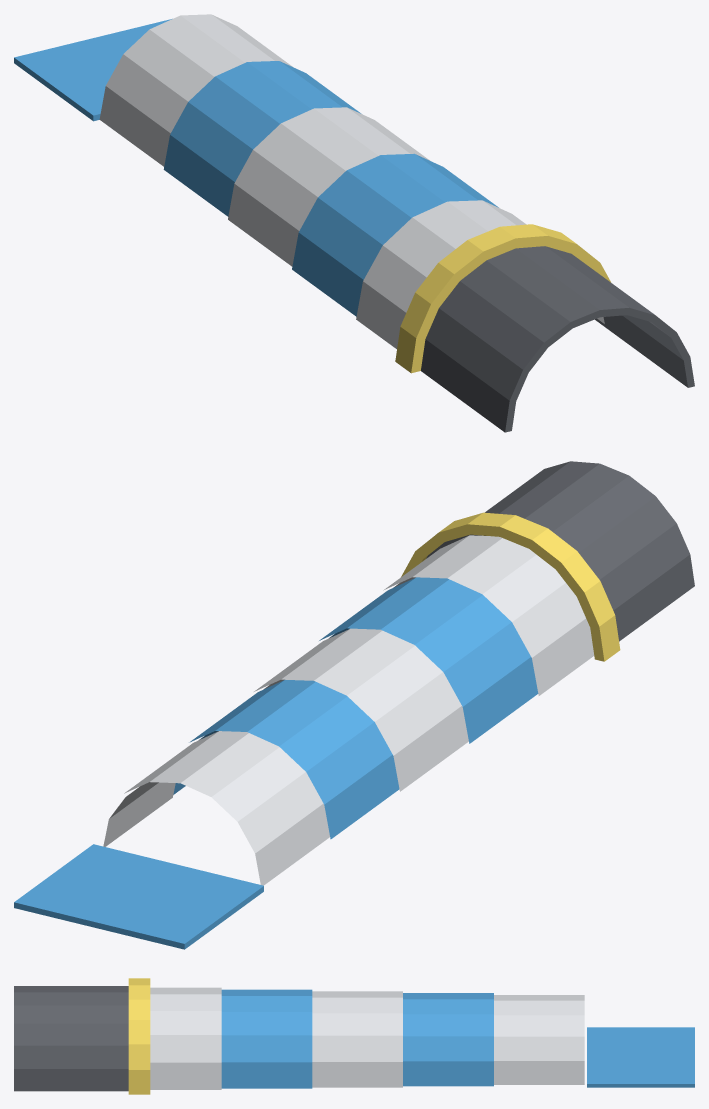
Rendered from dog-agility-and-training-field-collapsed-tunnel-entry-ee5e179a__35587.glb.
3 views of the same model, one above another, from view 1: azimuth 30°, elevation 25°; view 2: azimuth 150°, elevation 25°; view 3: azimuth 270°, elevation 25° (orthographic). The views are drawn at different scales.
Parts seen in each view (by area): view 1: collapsed-tunnel-entry-steel, collapsed-tunnel-entry-azure, collapsed-tunnel-entry-charcoal, collapsed-tunnel-entry-sunflower; view 2: collapsed-tunnel-entry-azure, collapsed-tunnel-entry-steel, collapsed-tunnel-entry-charcoal, collapsed-tunnel-entry-sunflower; view 3: collapsed-tunnel-entry-steel, collapsed-tunnel-entry-azure, collapsed-tunnel-entry-charcoal, collapsed-tunnel-entry-sunflower.
Boxes of the visible parts, box(x1,y1,x2,y2) form: collapsed-tunnel-entry-steel: box(99, 14, 604, 348); collapsed-tunnel-entry-azure: box(14, 18, 498, 316); collapsed-tunnel-entry-charcoal: box(421, 246, 694, 432); collapsed-tunnel-entry-sunflower: box(395, 224, 610, 373); collapsed-tunnel-entry-azure: box(14, 577, 538, 949); collapsed-tunnel-entry-steel: box(103, 535, 594, 885); collapsed-tunnel-entry-charcoal: box(426, 461, 694, 641); collapsed-tunnel-entry-sunflower: box(401, 512, 620, 661); collapsed-tunnel-entry-steel: box(150, 987, 584, 1089); collapsed-tunnel-entry-azure: box(221, 989, 694, 1088); collapsed-tunnel-entry-charcoal: box(14, 986, 128, 1091); collapsed-tunnel-entry-sunflower: box(128, 978, 150, 1094).
Bounding box in the file's own units: 0.76 × 0.3801 × 3.15.
